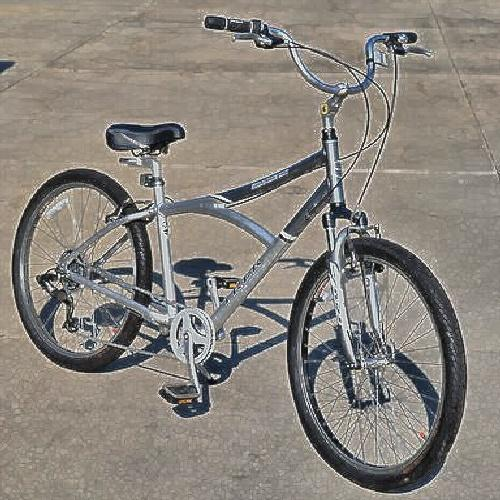kettle: (32, 30, 471, 461)
